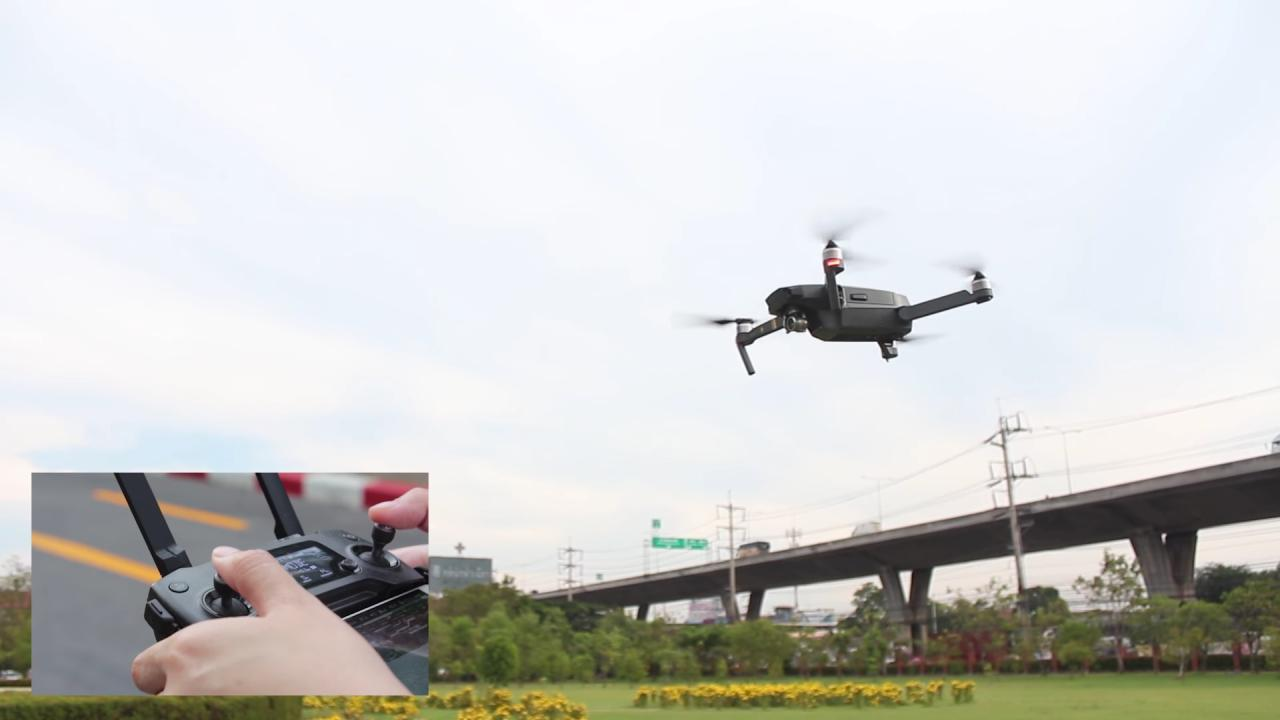Drone: (662, 202, 1032, 386)
